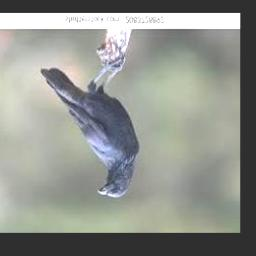Crow: (39, 64, 140, 198)
